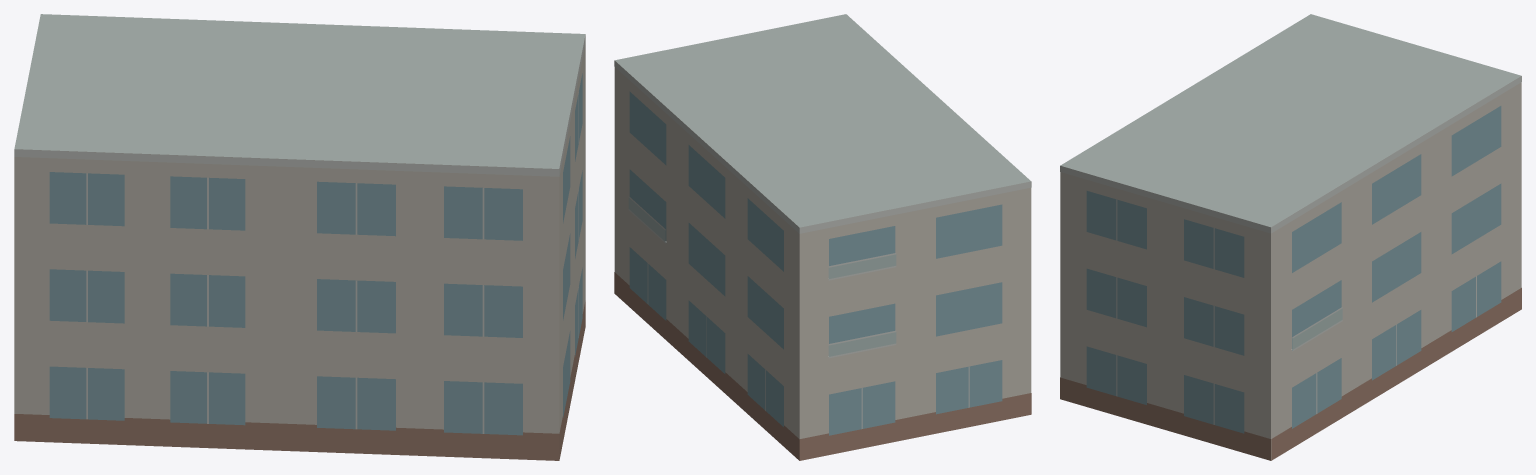
The model's file is survey-upis-32706683.glb.
3 views of the same model, side by side, from view 1: azimuth 30°, elevation 25°; view 2: azimuth 150°, elevation 25°; view 3: azimuth 270°, elevation 25° (orthographic). The views are drawn at different scales.
Visible parts, largest first — view 1: survey-upis-32706683.tmp; view 2: survey-upis-32706683.tmp; view 3: survey-upis-32706683.tmp.
Part boxes in pixels (<box>): survey-upis-32706683.tmp: <box>14,14,585,460</box>; survey-upis-32706683.tmp: <box>614,14,1031,460</box>; survey-upis-32706683.tmp: <box>1060,14,1521,460</box>.
Bounding box in the file's own units: 17.94 × 9.15 × 16.4.
